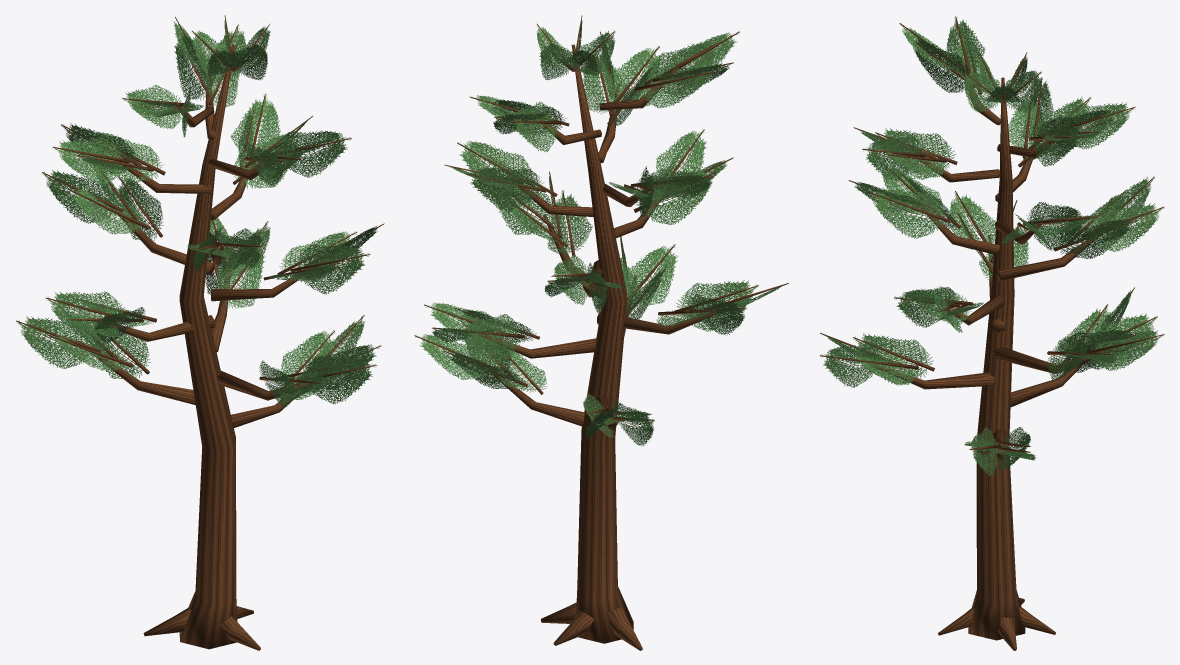
Rendered from NaturalPine_LOD1.glb.
3 views of the same model, side by side, from view 1: azimuth 30°, elevation 25°; view 2: azimuth 150°, elevation 25°; view 3: azimuth 270°, elevation 25° (orthographic). The views are drawn at different scales.
Visible parts, largest first — view 1: SM_NaturalPine_Foliage_LOD1, SM_NaturalPine_Bark_LOD1; view 2: SM_NaturalPine_Foliage_LOD1, SM_NaturalPine_Bark_LOD1; view 3: SM_NaturalPine_Foliage_LOD1, SM_NaturalPine_Bark_LOD1.
Boxes of the visible parts, x1,y1,x2,y2 form: SM_NaturalPine_Foliage_LOD1: [17, 20, 380, 406]; SM_NaturalPine_Bark_LOD1: [16, 15, 384, 650]; SM_NaturalPine_Foliage_LOD1: [415, 20, 781, 446]; SM_NaturalPine_Bark_LOD1: [414, 15, 788, 650]; SM_NaturalPine_Foliage_LOD1: [820, 17, 1164, 476]; SM_NaturalPine_Bark_LOD1: [820, 16, 1164, 650].
Bounding box in the file's own units: 4.82 × 8.1 × 4.43.
Materials: 2 (2 with a texture image).
